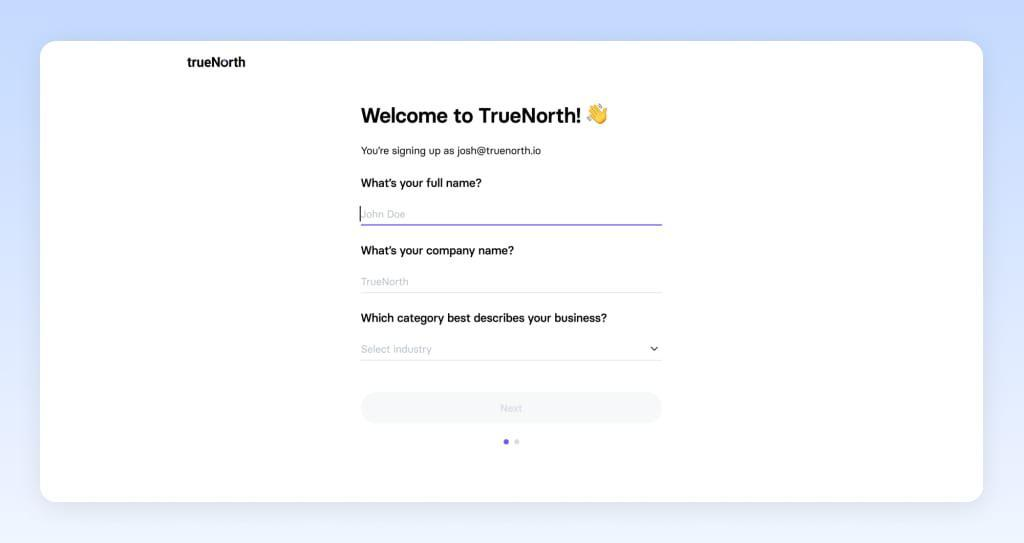button: (362, 391, 665, 424)
label: (359, 102, 586, 129), (360, 310, 610, 326), (361, 143, 544, 158), (359, 242, 517, 259), (356, 178, 491, 193)
